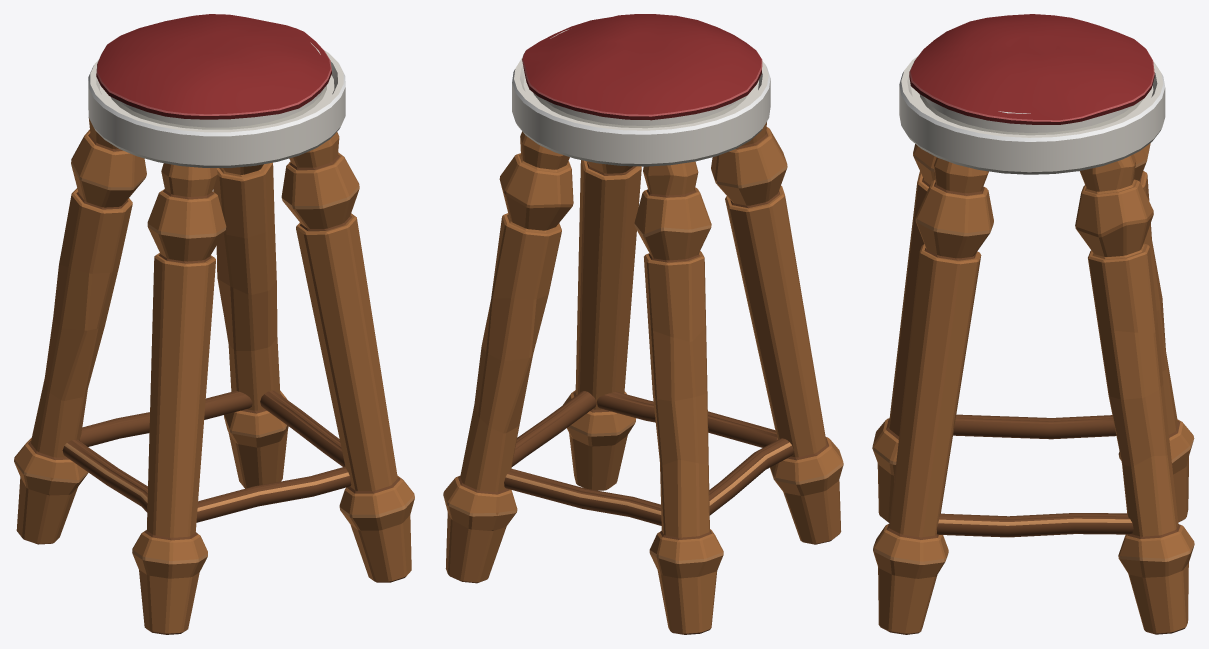
The model's file is UD_TIR_Barstool.glb.
The picture shows the model from 3 angles, left to right: view 1: azimuth 30°, elevation 25°; view 2: azimuth 150°, elevation 25°; view 3: azimuth 270°, elevation 25°; orthographic projection. The views are drawn at different scales.
Visible parts, largest first — view 1: Barstool; view 2: Barstool; view 3: Barstool.
Part boxes in pixels (x1,y1,x2,y2): Barstool: (14, 14, 414, 634); Barstool: (443, 14, 843, 634); Barstool: (872, 14, 1194, 634).
Bounding box in the file's own units: 0.4215 × 0.764 × 0.4211.
1 material, 1 textured.
